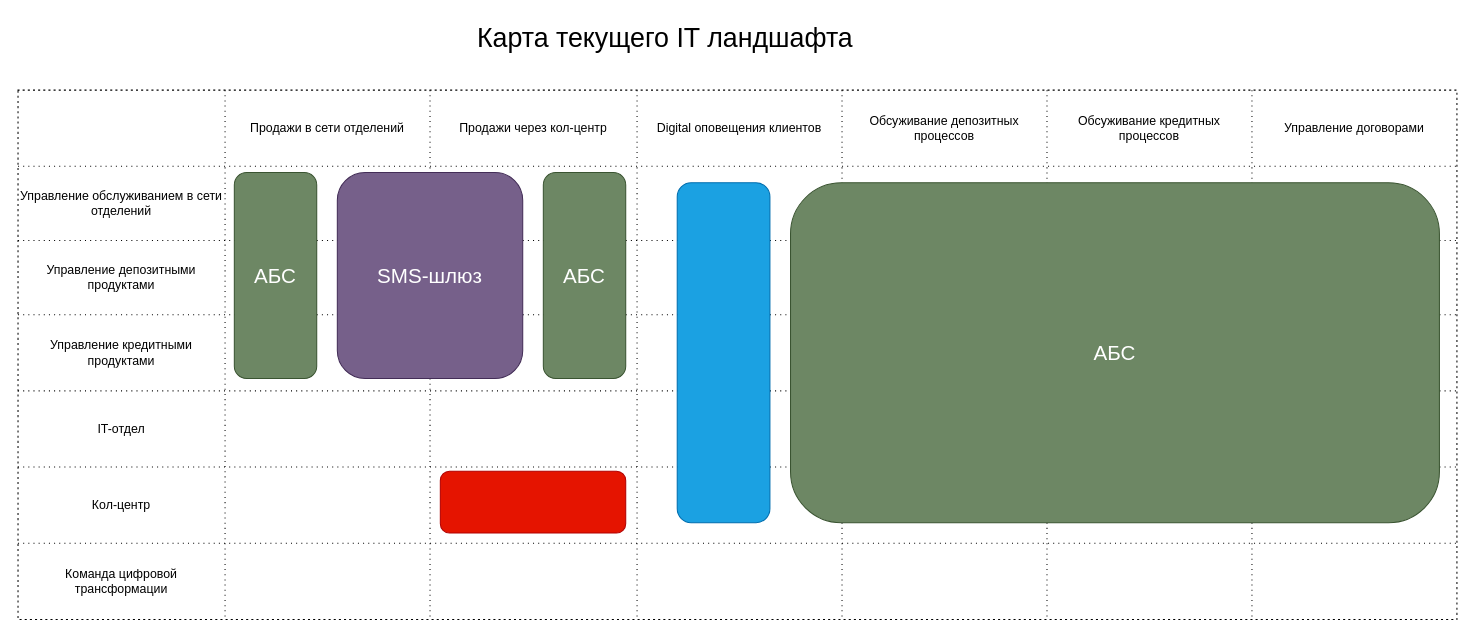
This 1475x638 diagram has some shape labels left out. Each missing label, with the centre of its shape:
Система call-центра: point 532,501
Телеком - оператор: point 723,352
